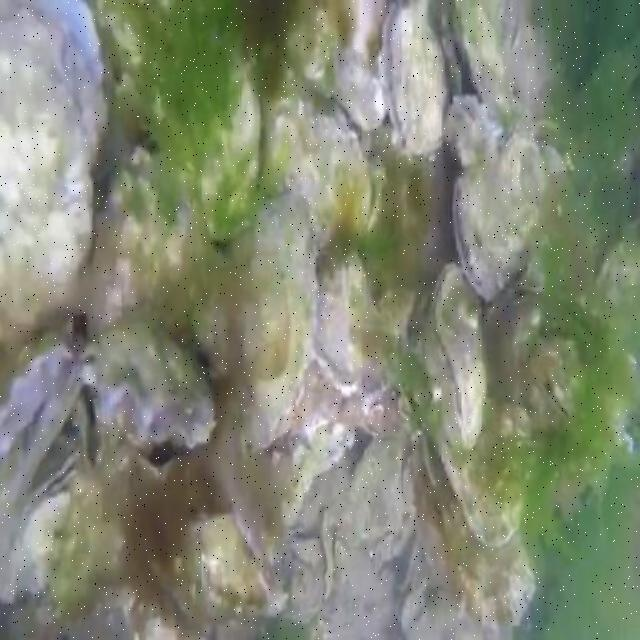Oyster-Closed: (88, 145, 221, 342), (225, 200, 315, 448), (167, 31, 261, 234), (261, 98, 379, 245), (455, 134, 549, 297), (280, 0, 389, 135), (443, 510, 540, 632), (315, 256, 401, 390), (377, 0, 449, 160), (431, 264, 487, 451), (188, 510, 280, 611), (452, 0, 521, 120), (585, 218, 640, 333), (451, 94, 503, 167), (31, 433, 81, 507), (395, 585, 422, 630)
Oyster-Open: (0, 0, 107, 330), (421, 367, 531, 548), (75, 311, 215, 444), (0, 329, 84, 522)
